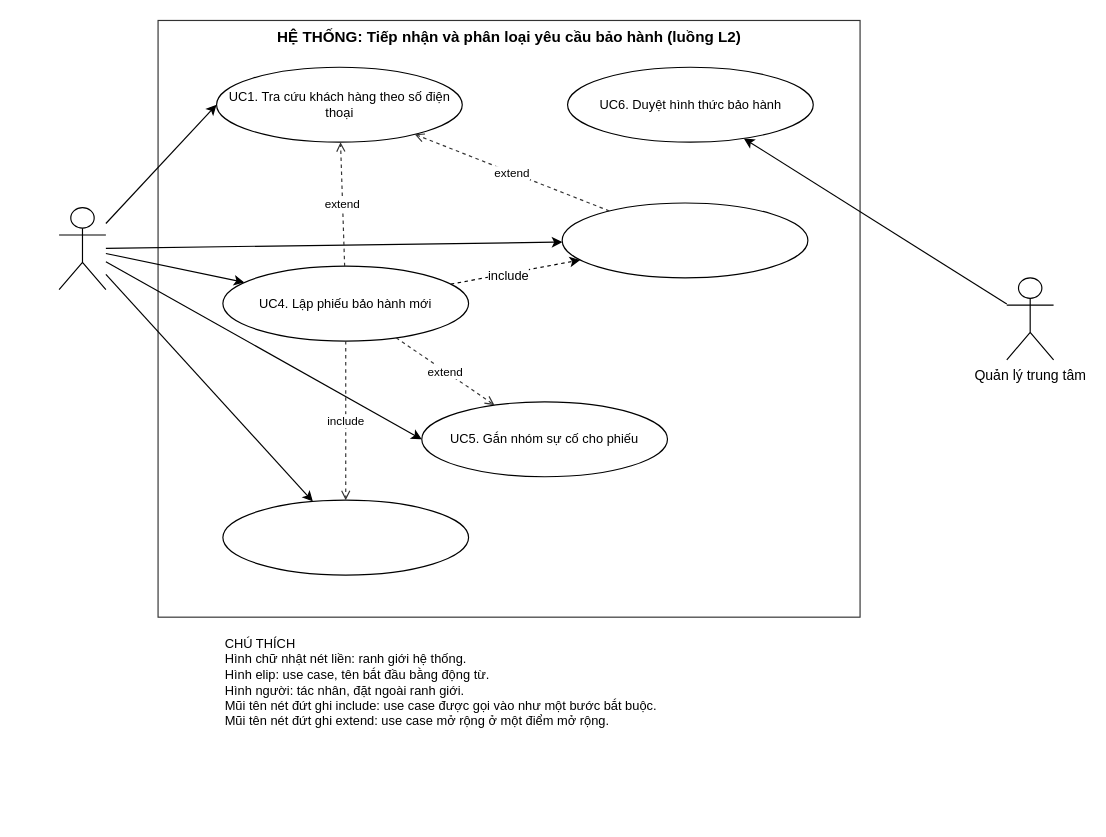
Some shapes in this 1106 by 837 pixel diagram are drawn without their labels. Here are the shapes that lost their labels. From the top down, the centre of each, then its label:
the point at 82,248: Nhân viên tiếp nhận
the point at 684,240: UC2. Tạo khách hàng mới
the point at 345,537: UC3. Đăng ký thiết bị cho khách
